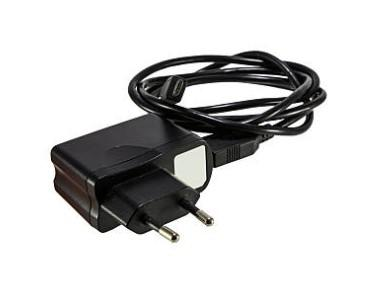cable: (52, 51, 327, 240)
